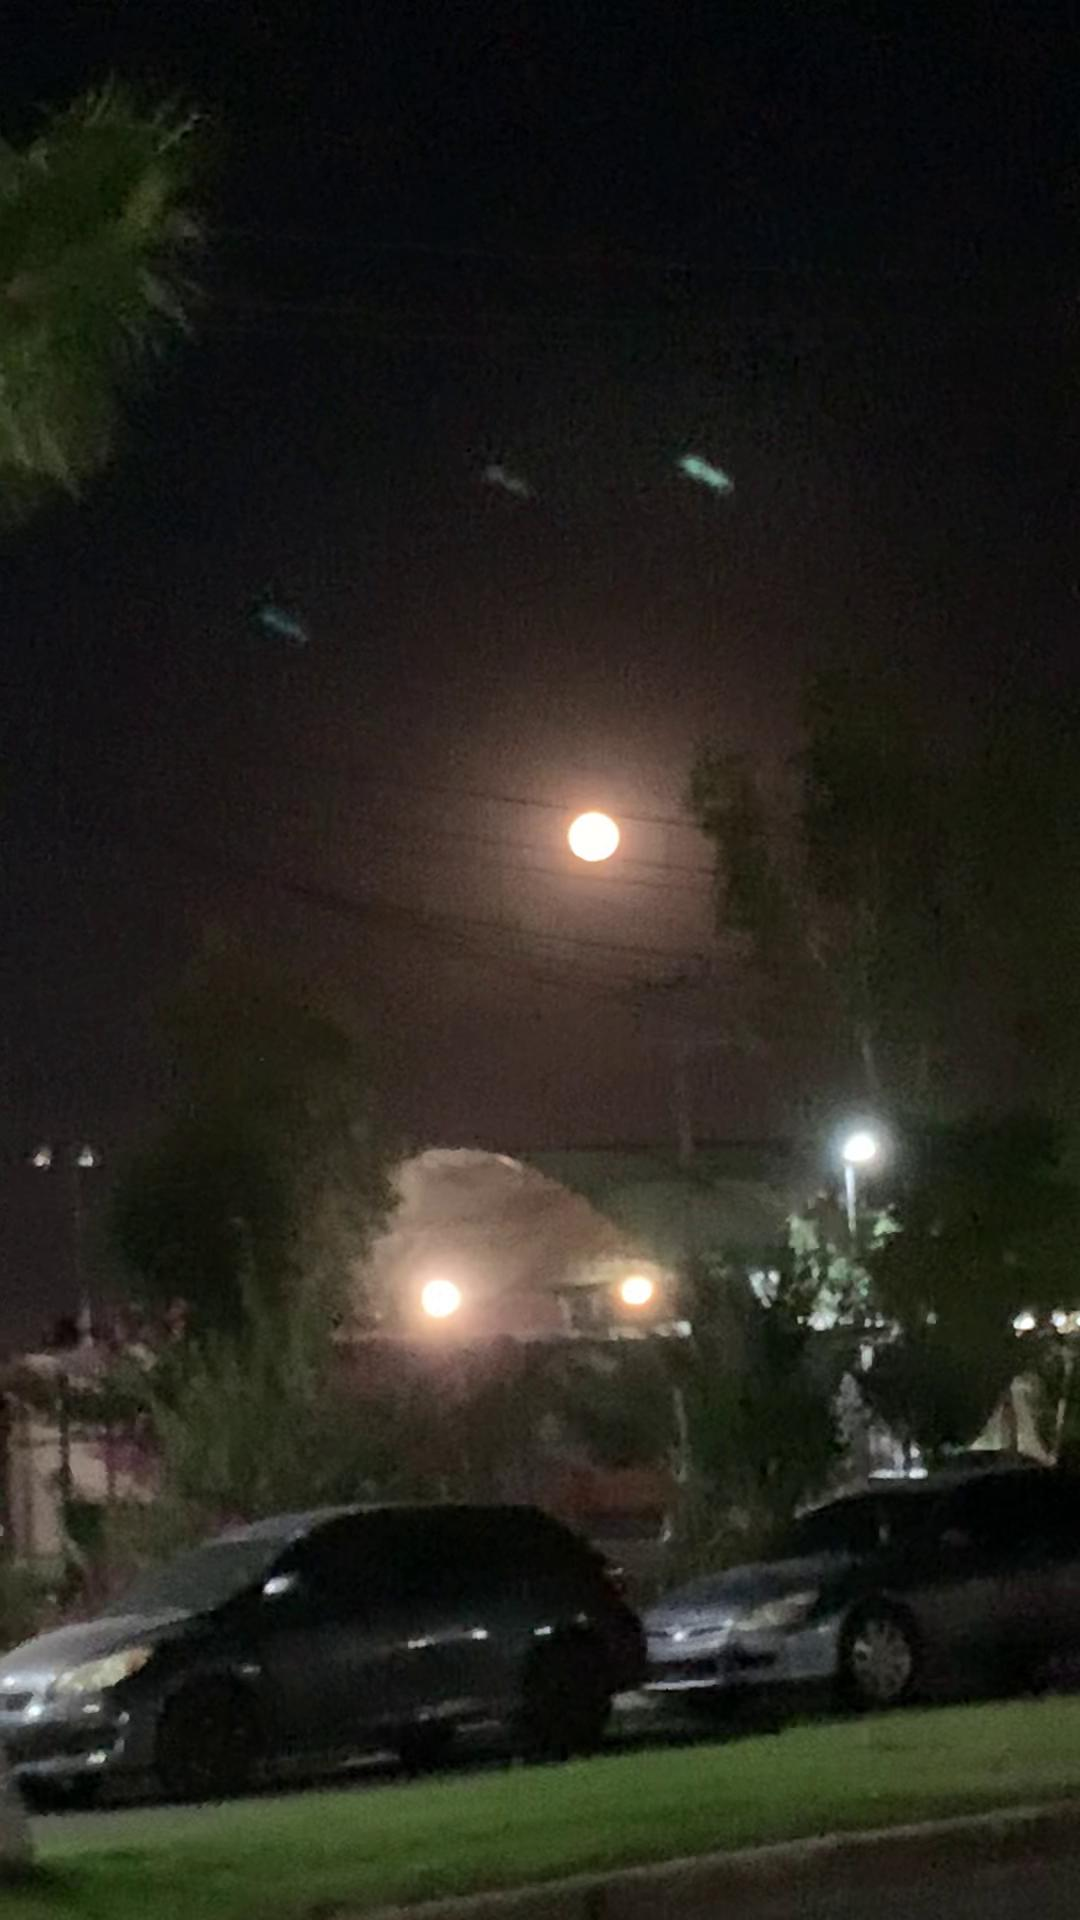moon: (553, 786, 645, 884)
